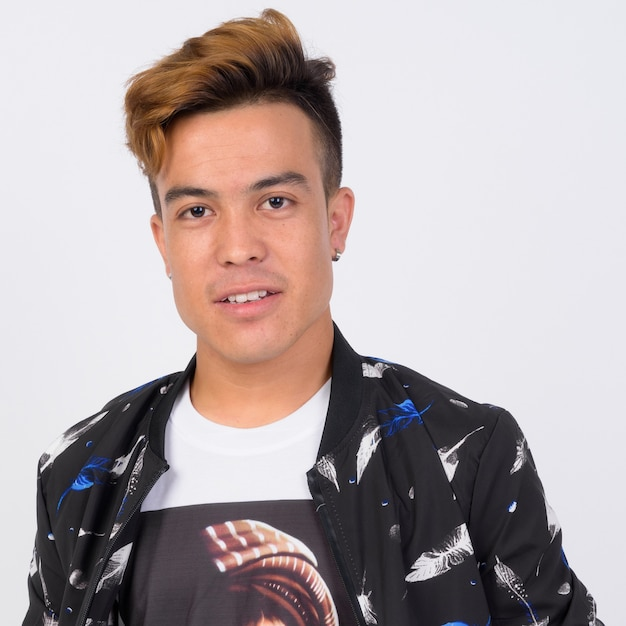teen: (130, 29, 370, 349)
